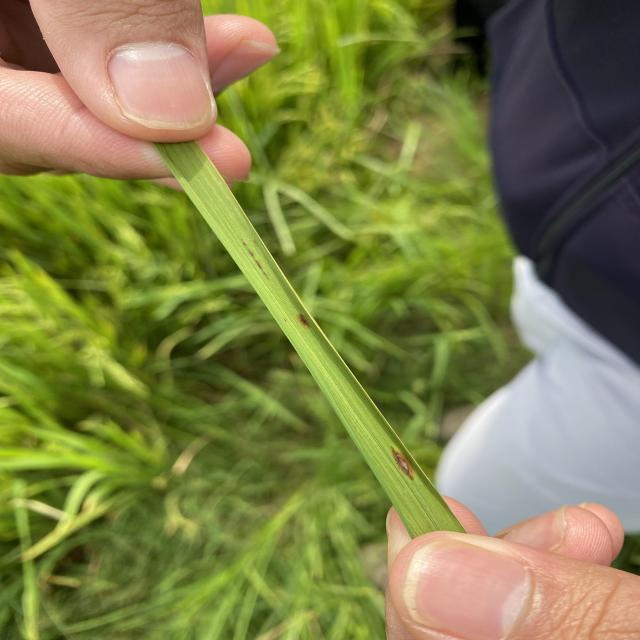Dom nau: (389, 444, 414, 482), (296, 313, 310, 328)
